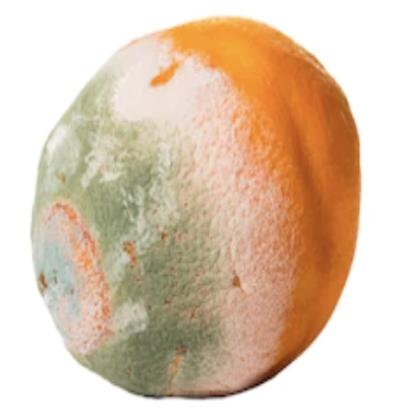rotten: (32, 20, 363, 406)
